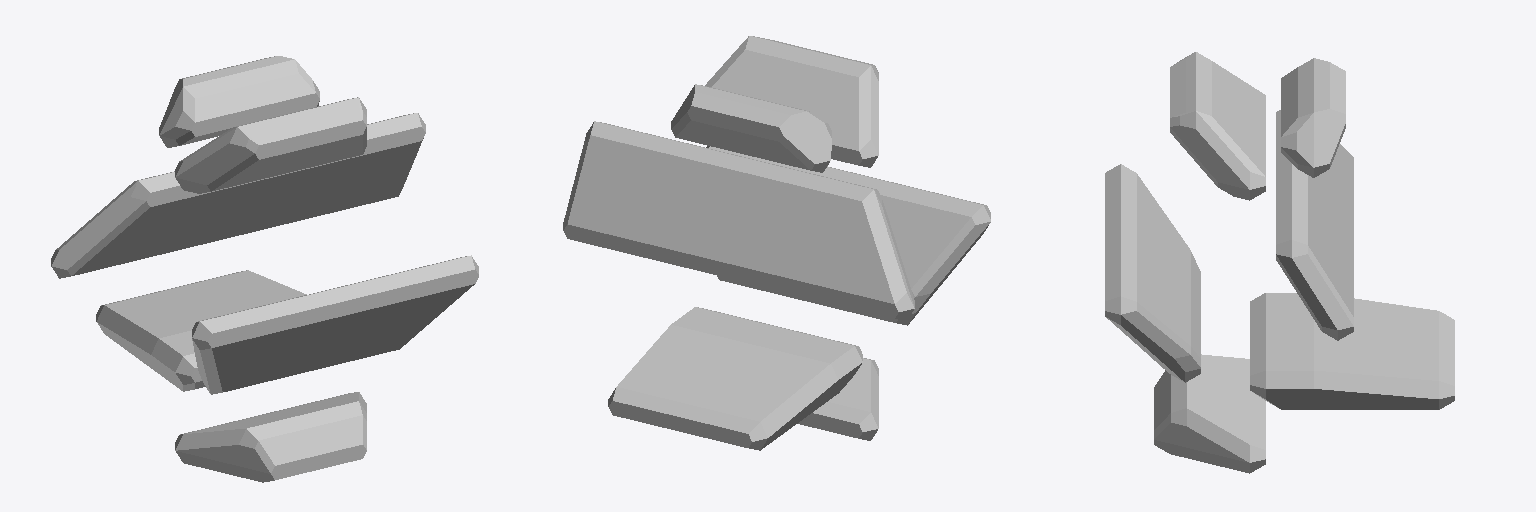
The model's file is Offset4.obj.
3 views of the same model, side by side, from view 1: azimuth 30°, elevation 25°; view 2: azimuth 150°, elevation 25°; view 3: azimuth 270°, elevation 25° (orthographic).
Bounding box in the file's own units: 110 × 105 × 95.